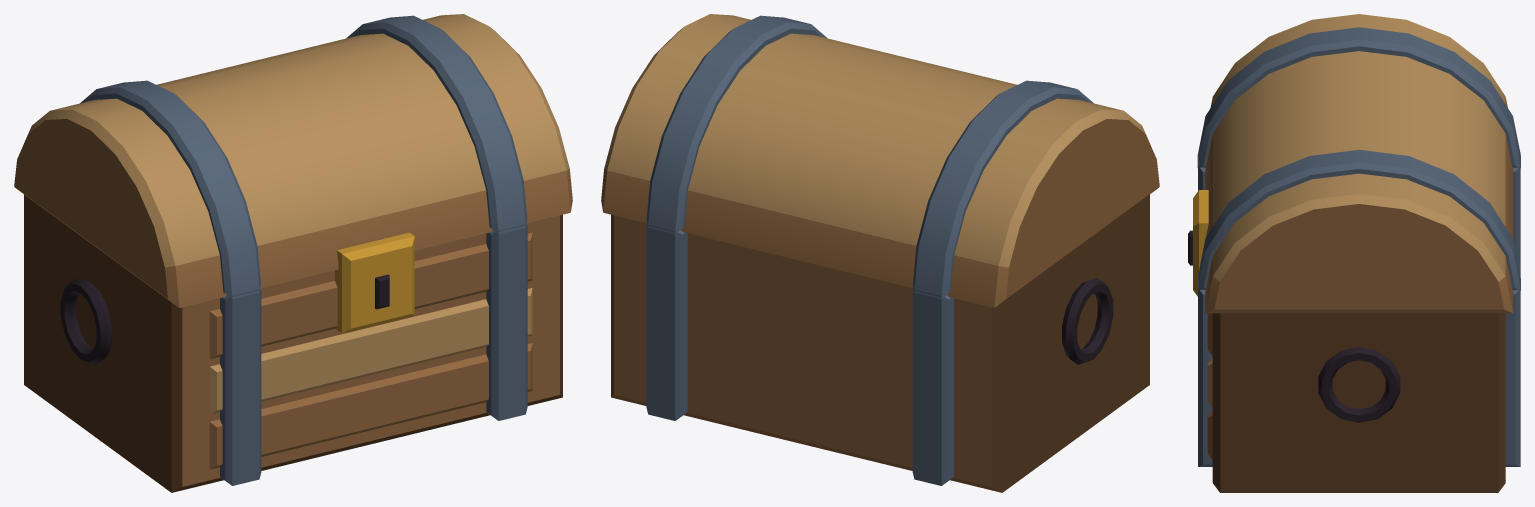
The model's file is Chest_01.glb.
3 renders of one model, left to right at view 1: azimuth 30°, elevation 25°; view 2: azimuth 150°, elevation 25°; view 3: azimuth 270°, elevation 25°, orthographic. The views are drawn at different scales.
Parts seen in each view (by area): view 1: Chest_01; view 2: Chest_01; view 3: Chest_01.
Part boxes in pixels (left/top/right/bottom): Chest_01: left=14, top=14, right=572, bottom=492; Chest_01: left=601, top=14, right=1159, bottom=492; Chest_01: left=1188, top=14, right=1520, bottom=492.
Bounding box in the file's own units: 3.74 × 2.75 × 2.69.
